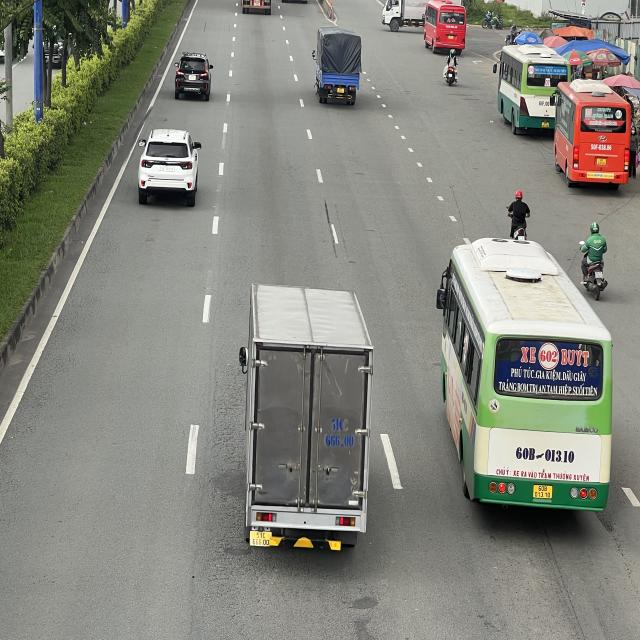car: (136, 129, 202, 206), (175, 54, 214, 103)
coach: (436, 234, 619, 519), (554, 79, 636, 189), (494, 43, 573, 137), (422, 0, 467, 54)
truck: (238, 283, 373, 551), (312, 30, 362, 106), (380, 0, 431, 29)
